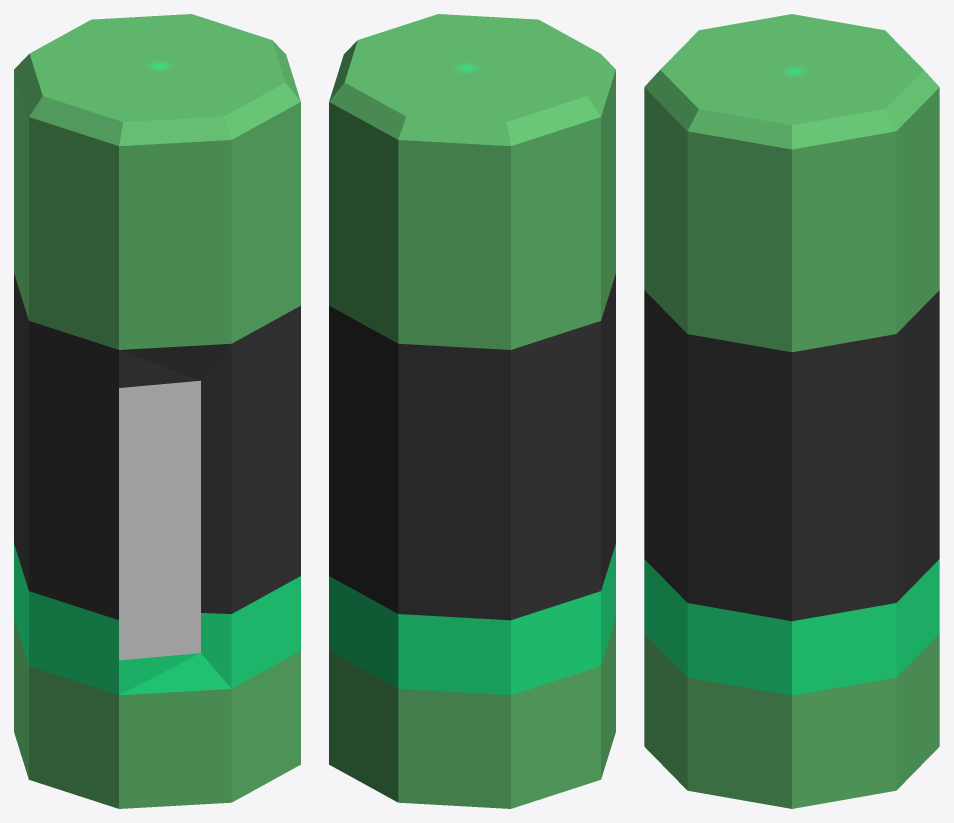
Rendered from CKFoam.dae.
3 views of the same model, side by side, from view 1: azimuth 30°, elevation 25°; view 2: azimuth 150°, elevation 25°; view 3: azimuth 270°, elevation 25° (orthographic).
Parts seen in each view (by area): view 1: Cylinder_001; view 2: Cylinder_001; view 3: Cylinder_001.
Boxes of the visible parts, x1=… form: Cylinder_001: x1=14, y1=14, x2=300, y2=808; Cylinder_001: x1=329, y1=14, x2=615, y2=808; Cylinder_001: x1=644, y1=14, x2=939, y2=808.
Bounding box in the file's own units: 1.09 × 1.09 × 2.75.
Materials: 4 (4 with a texture image).
